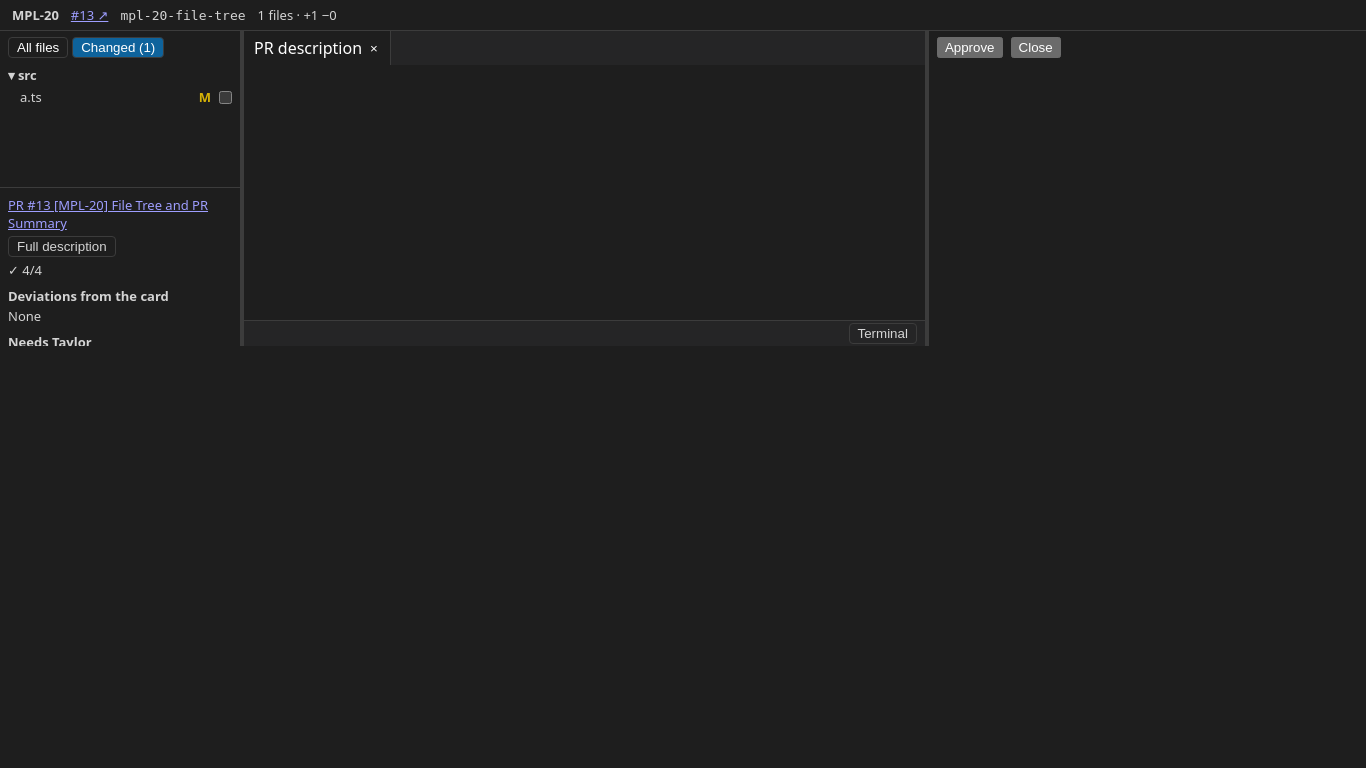
Test case: CardTab › a failed Approve anyway shows its error
Expected: the checkbox named "Viewed src/a.ts" is shown, [219, 90, 232, 104]
Click the button "Approve".
click(970, 48)  # box [937, 37, 1003, 58]
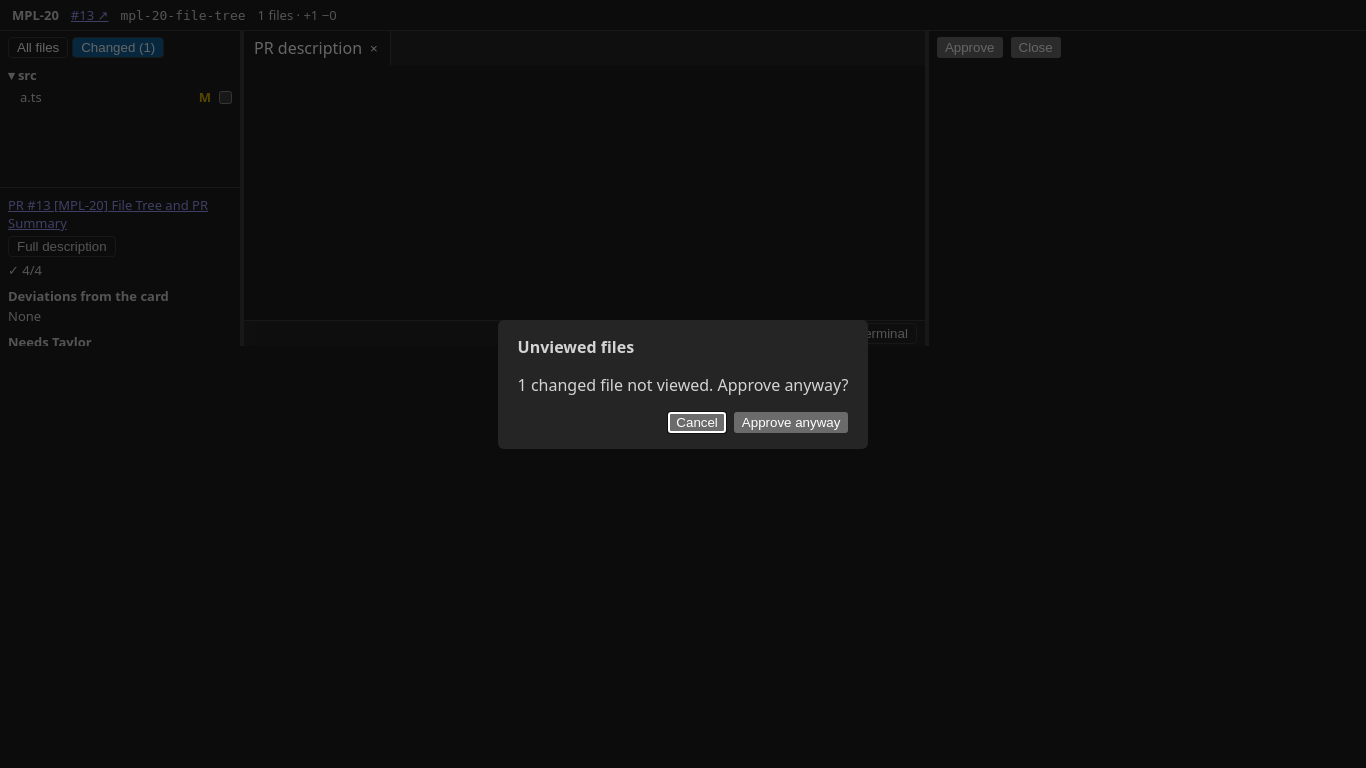
Click the button "Approve anyway".
click(791, 422)  # box [734, 412, 848, 432]
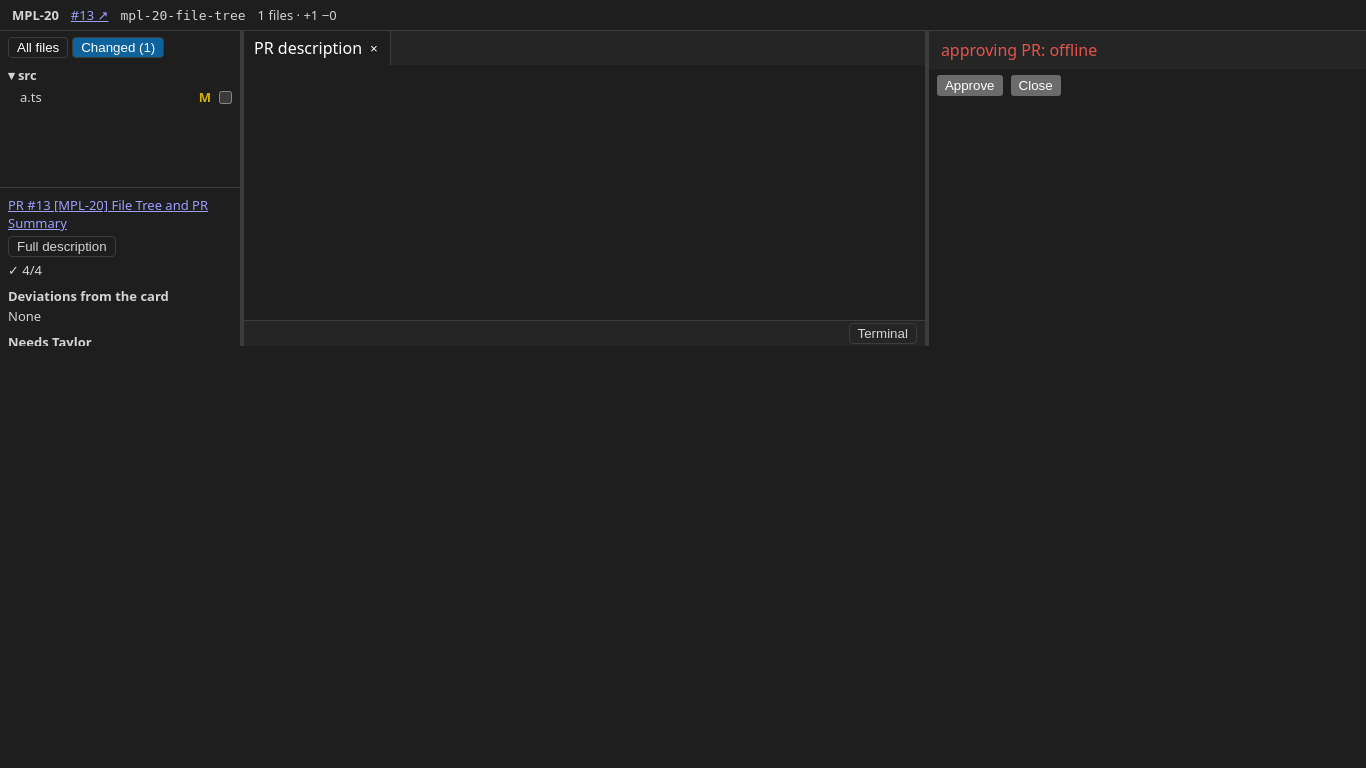
Expected: the message reads "approving PR: offline", [941, 39, 1097, 61]
